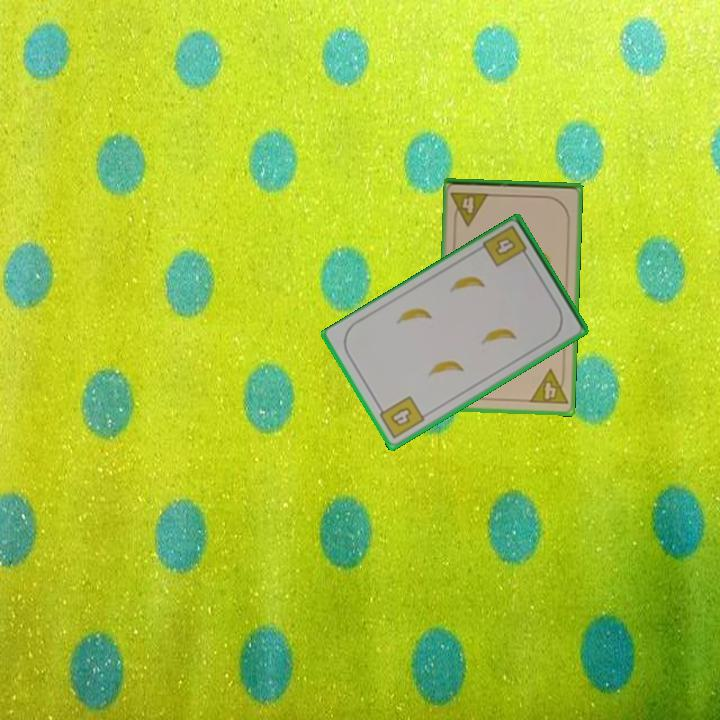4b: (374, 392, 427, 442), (479, 222, 533, 270)
4p: (526, 366, 570, 408), (447, 188, 492, 228)
